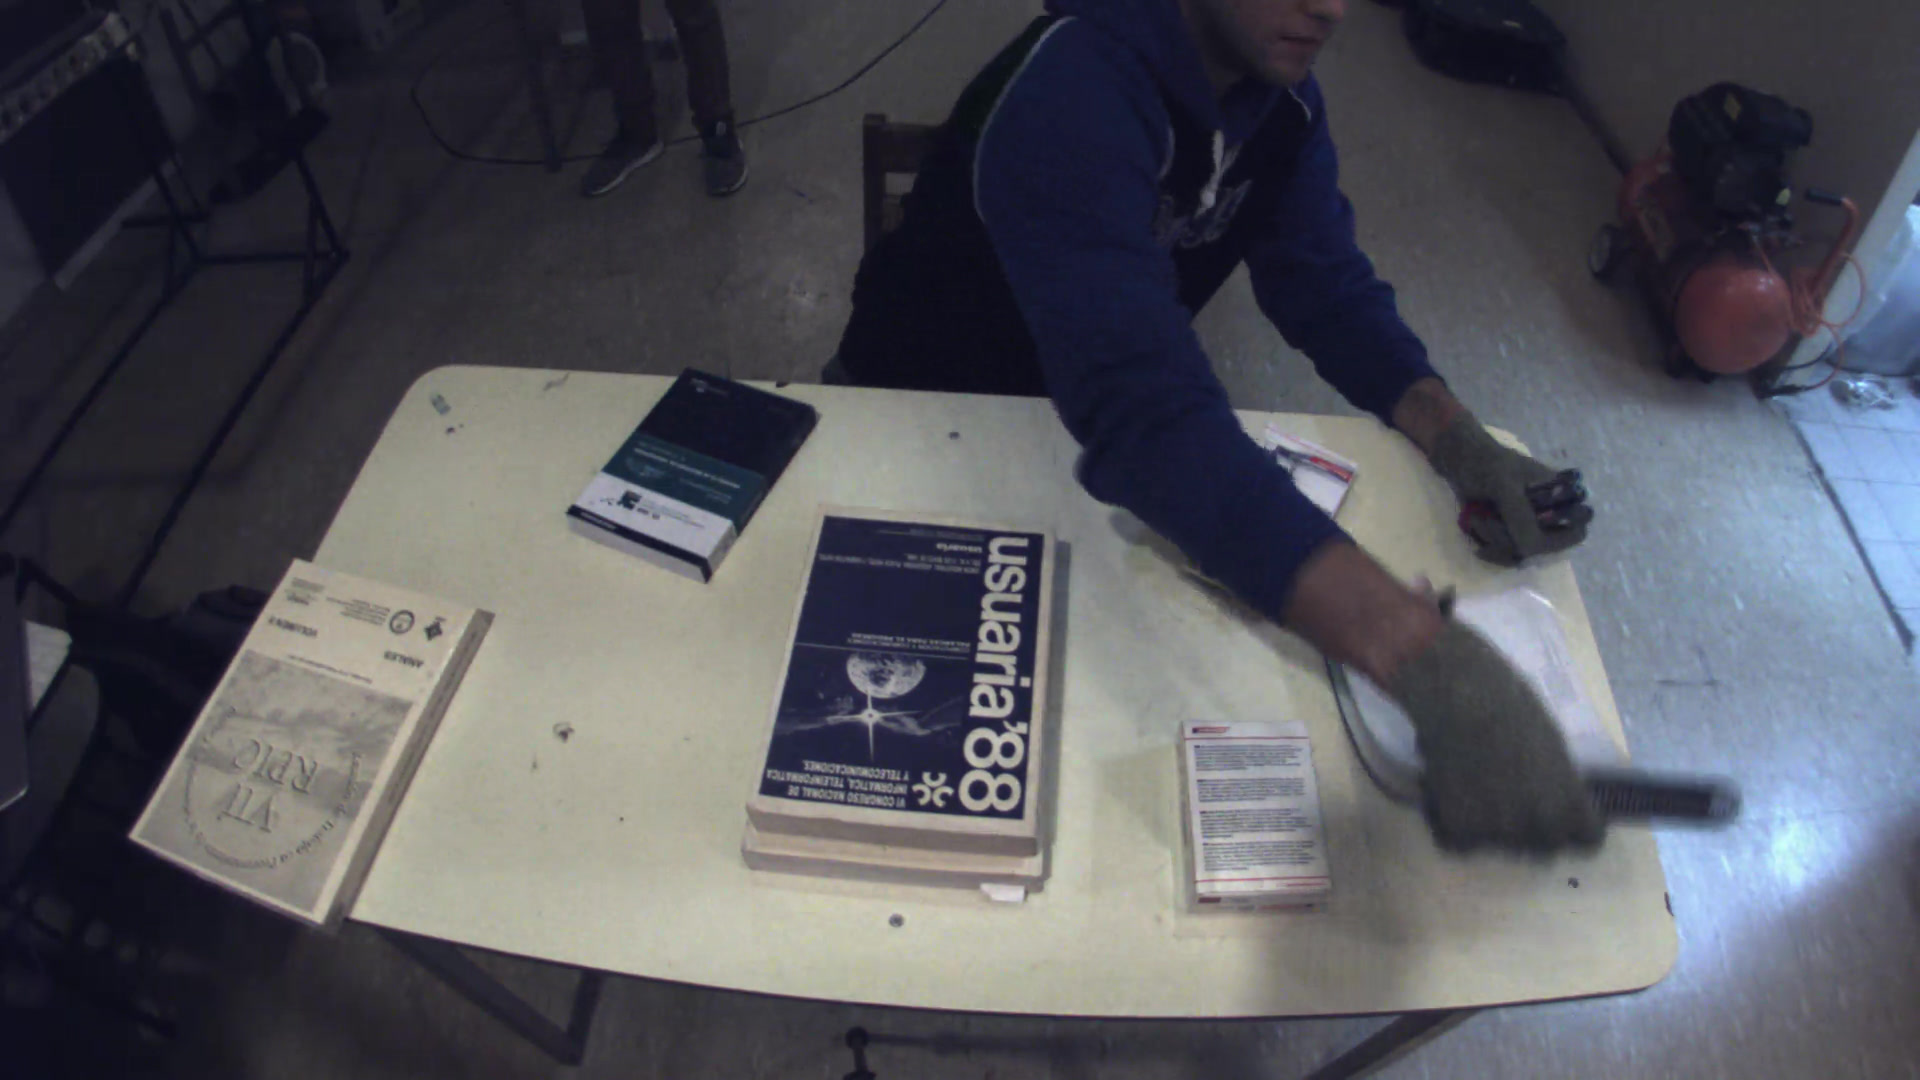hand: (1391, 650, 1630, 864), (1425, 394, 1600, 574)
